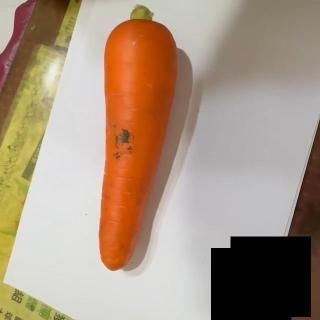carrot: (98, 5, 178, 273)
